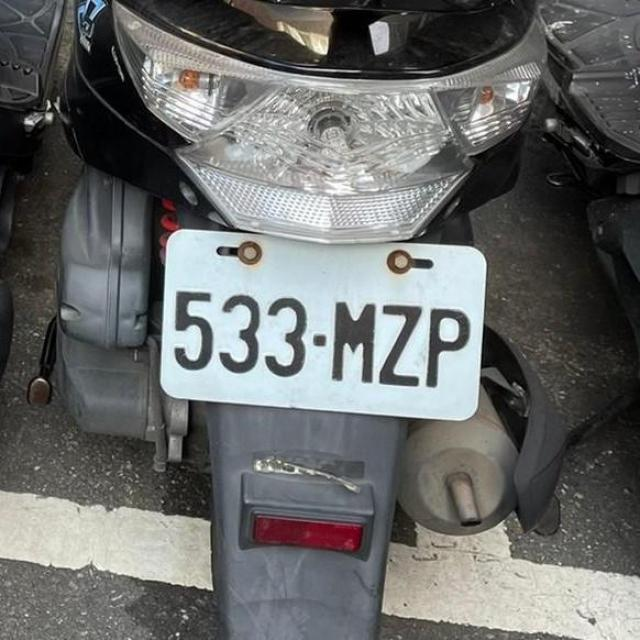W: (147, 210, 495, 428)
